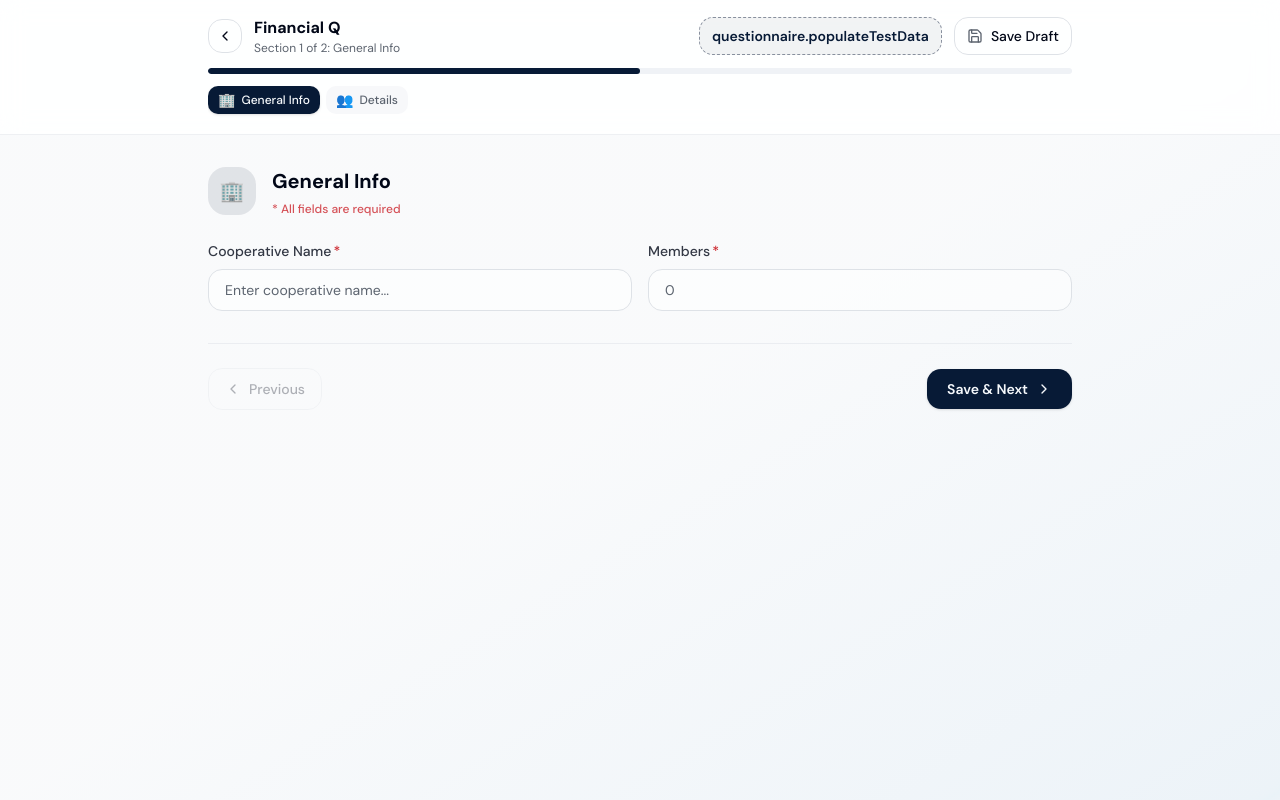
QuestionnaireWizard field validation › advances to the next section after Save & Next, saving the draft locally (never the backend)
This screenshot has width=1280, height=800.
Type "Unity Coop" into the field labelled "Cooperative Name*" at (420, 290), box [208,269,632,311]
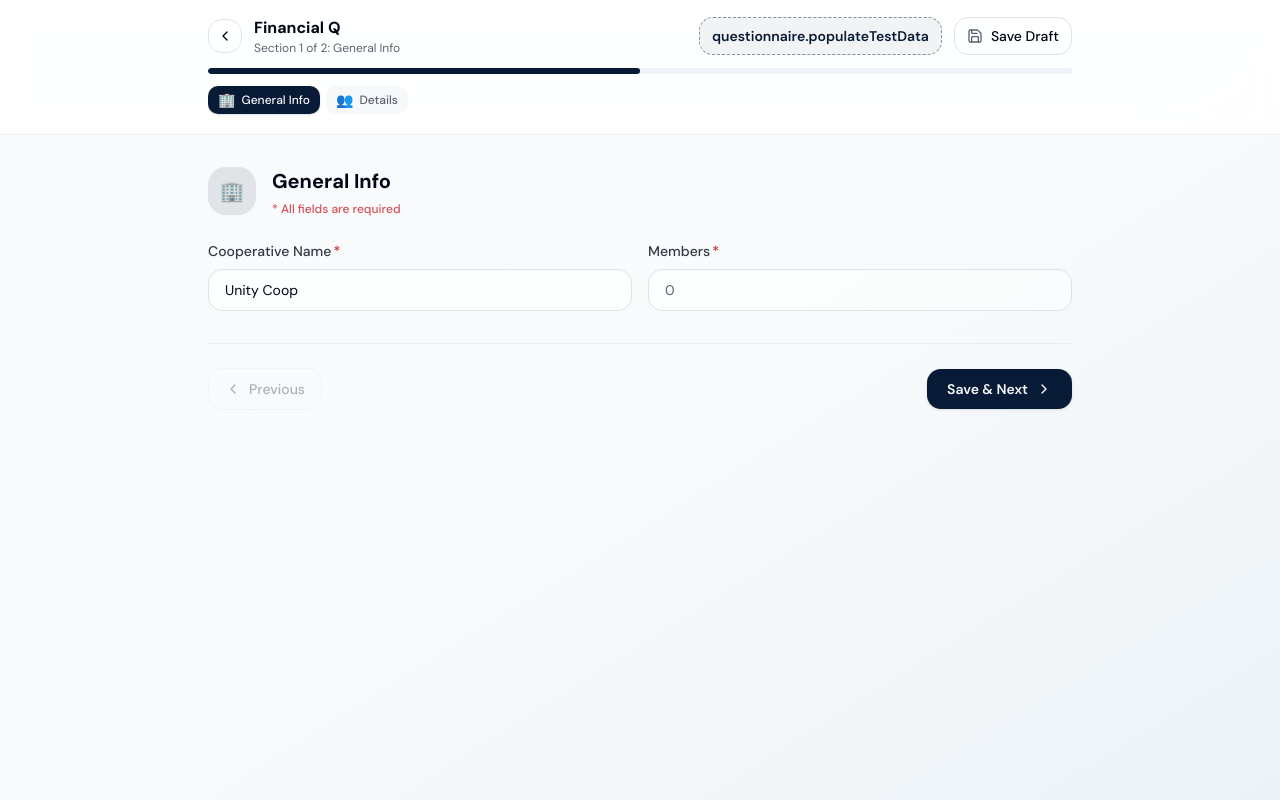
Type "120" into the number field labelled "Members*" at (860, 290), box [648,269,1072,311]
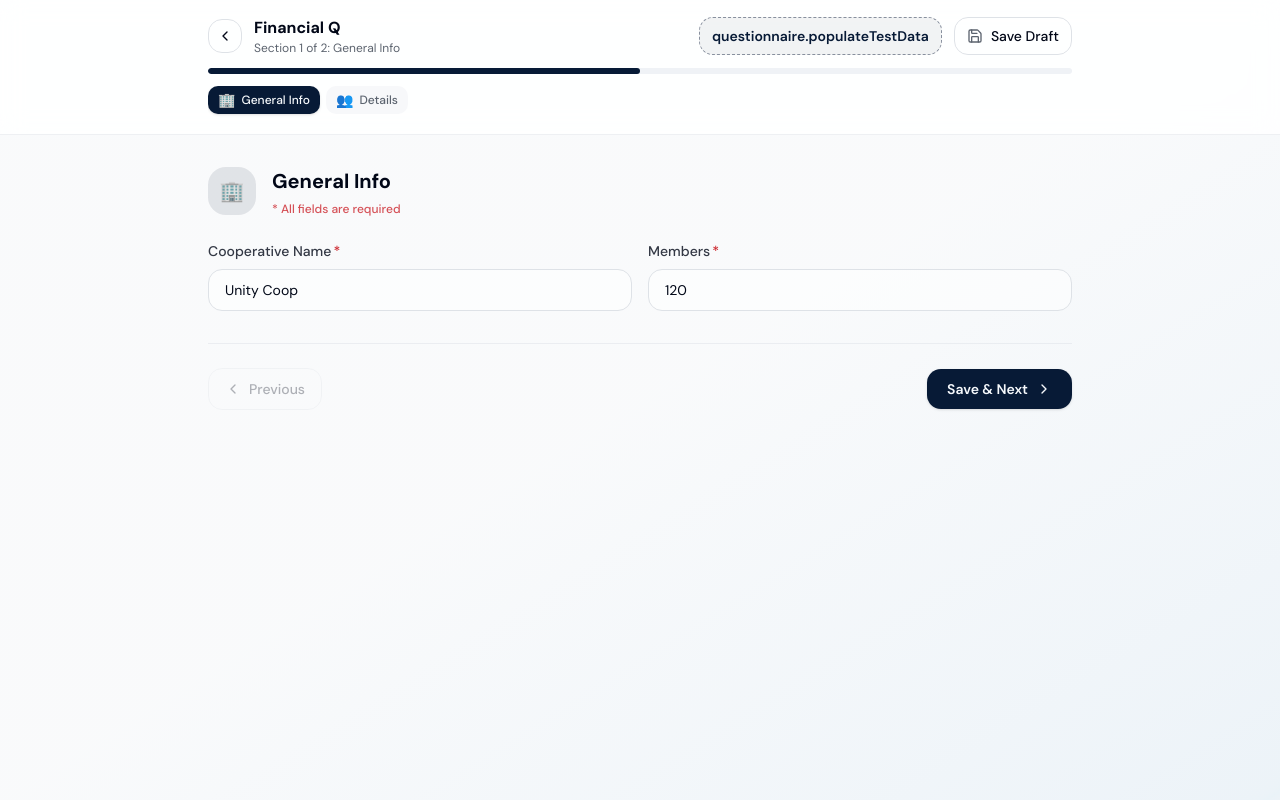
Click the button "Save & Next" at (1000, 389), box [927,369,1072,409]
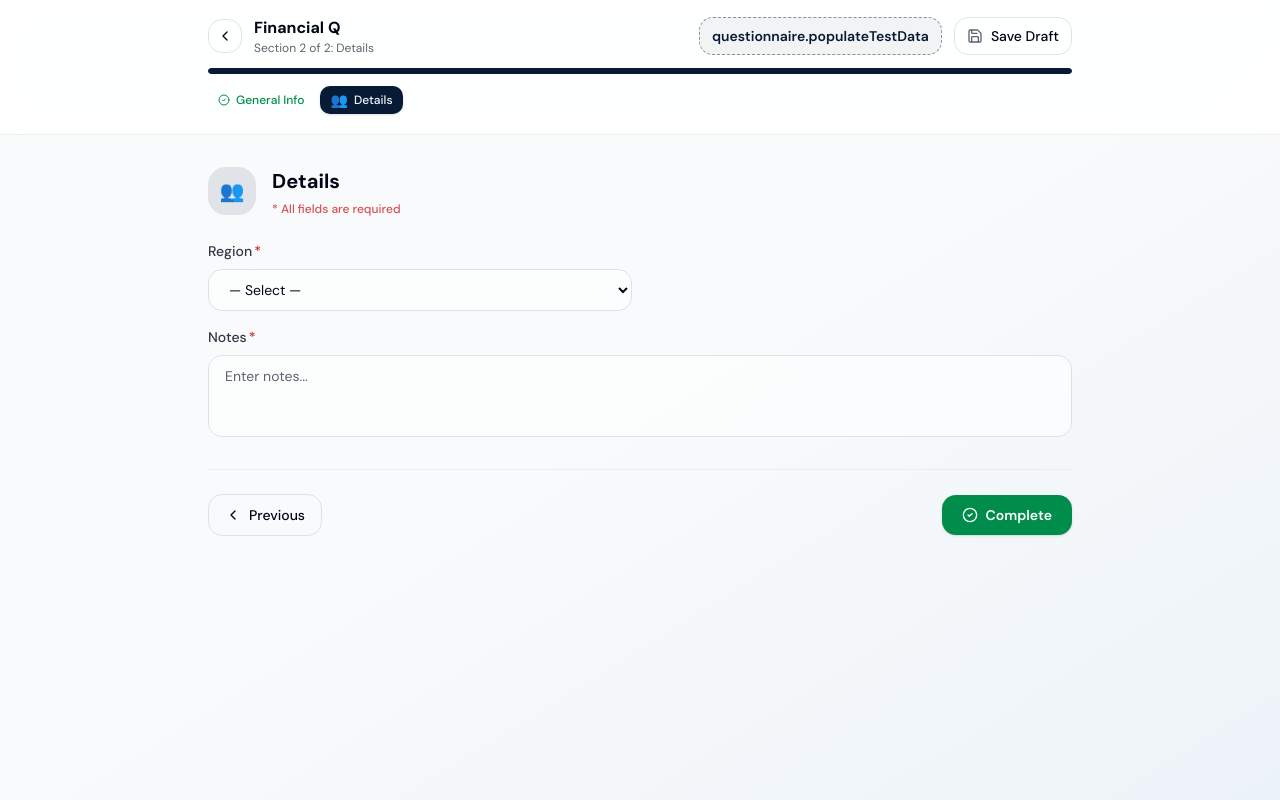
Expected: the dropdown labelled "Region*" is shown, [208,269,632,311]
